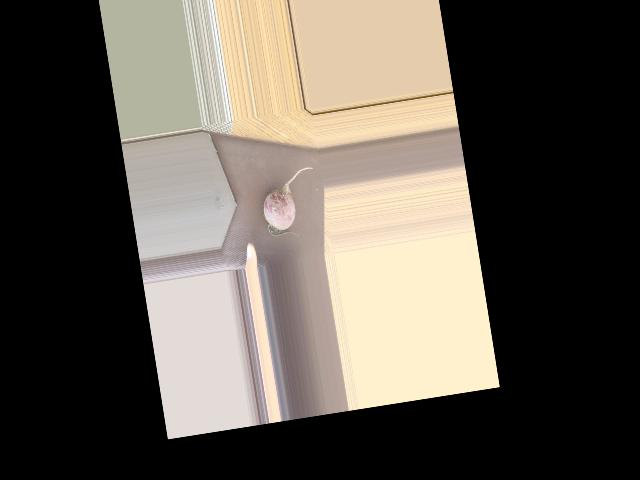beet: (257, 166, 322, 242)
